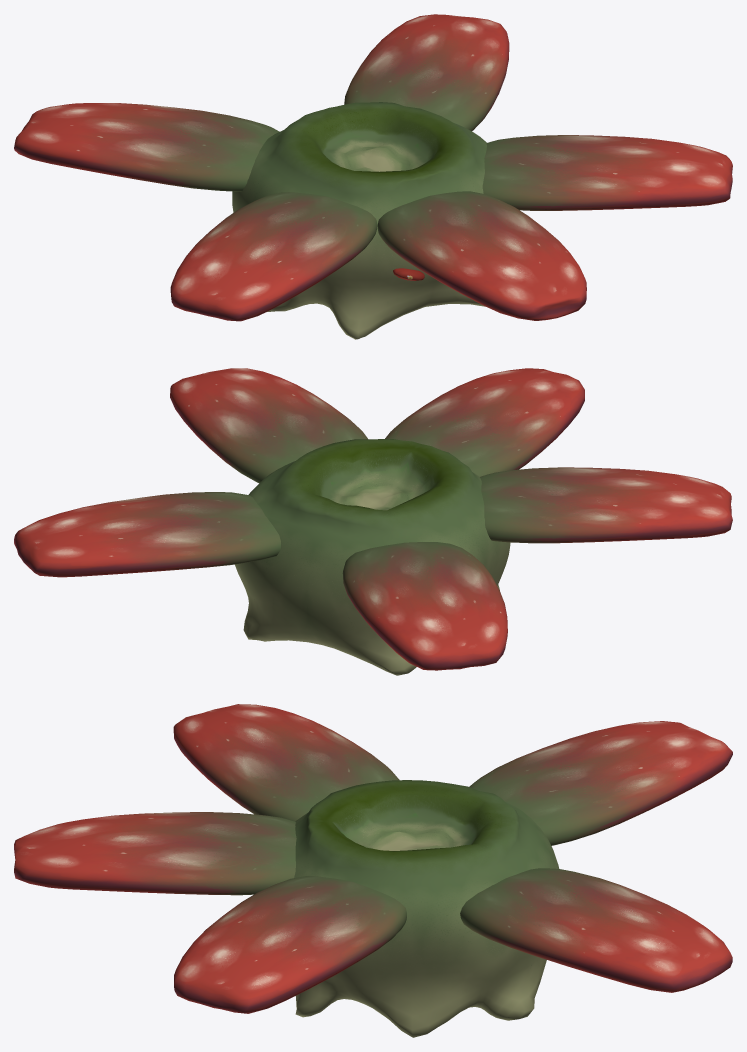
File: pedalton.fbx
3 renders of one model, top to bottom at view 1: azimuth 30°, elevation 25°; view 2: azimuth 150°, elevation 25°; view 3: azimuth 270°, elevation 25°, orthographic. The views are drawn at different scales.
Parts seen in each view (by area): view 1: pedalton; view 2: pedalton; view 3: pedalton.
Part boxes in pixels (left/top/right/bottom): pedalton: left=14, top=14, right=732, bottom=339; pedalton: left=14, top=368, right=732, bottom=675; pedalton: left=14, top=704, right=732, bottom=1037.
Bounding box in the file's own units: 254 × 62.99 × 257.
1 material, 1 textured.
